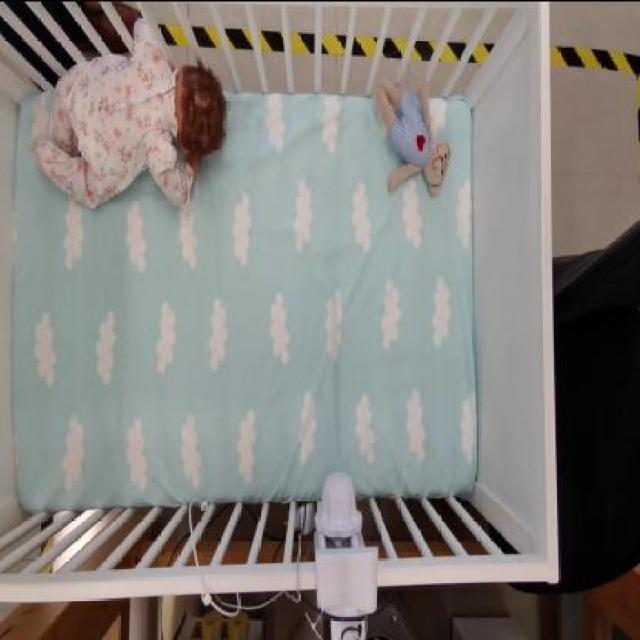baby: (31, 16, 233, 213)
